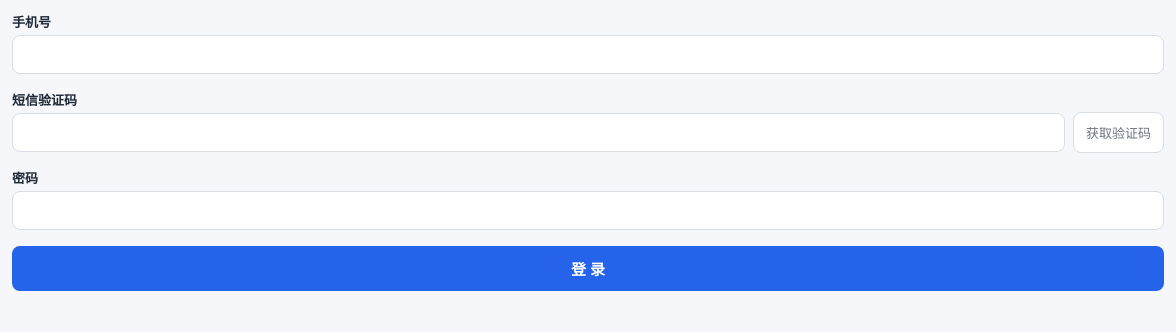
Test: US2 非法输入即时拦截与友好提示 › 错误验证码提交显示"验证码错误"（FR-003）
The width and height of the screenshot is (1176, 332).
Type "13800000001" into the field labelled "手机号" at coordinates (588, 54), box [12, 35, 1164, 74]
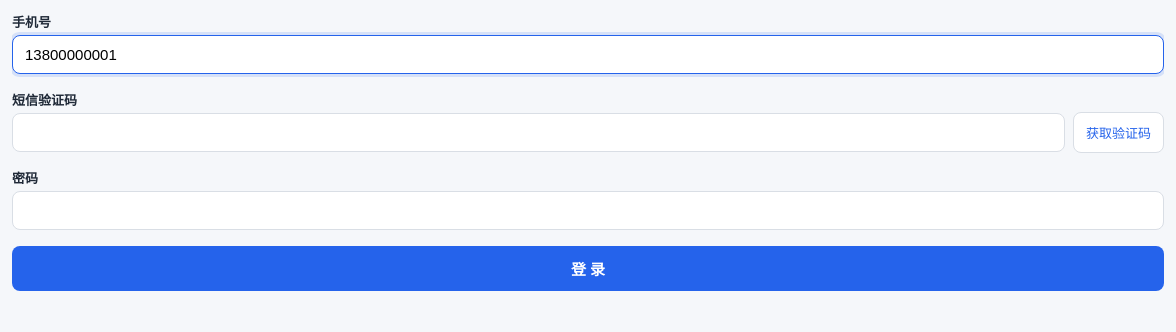
Type "000000" into the field labelled "短信验证码" at coordinates (538, 132), box [12, 113, 1065, 152]
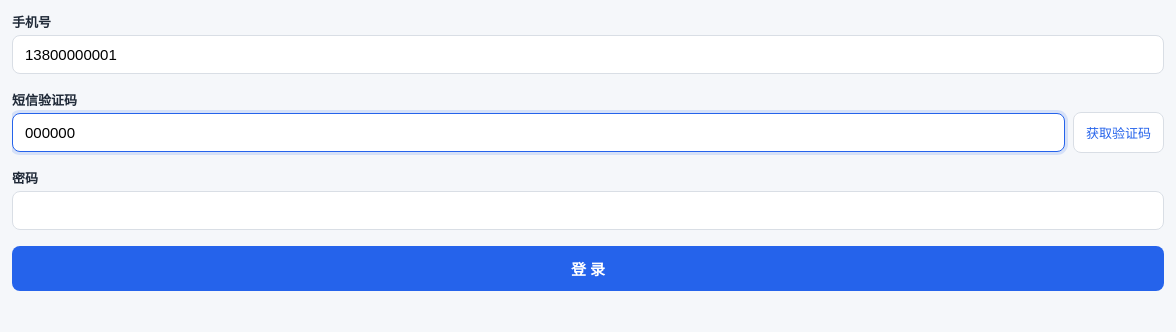
Type "enc:valid-password" into the password field labelled "密码" at coordinates (588, 210), box [12, 191, 1164, 230]
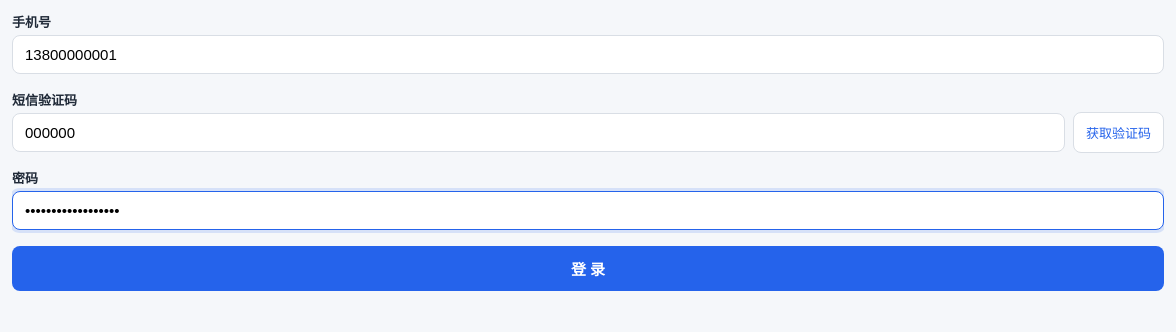
Click the button "登 录" at coordinates (588, 268), box [12, 246, 1164, 291]
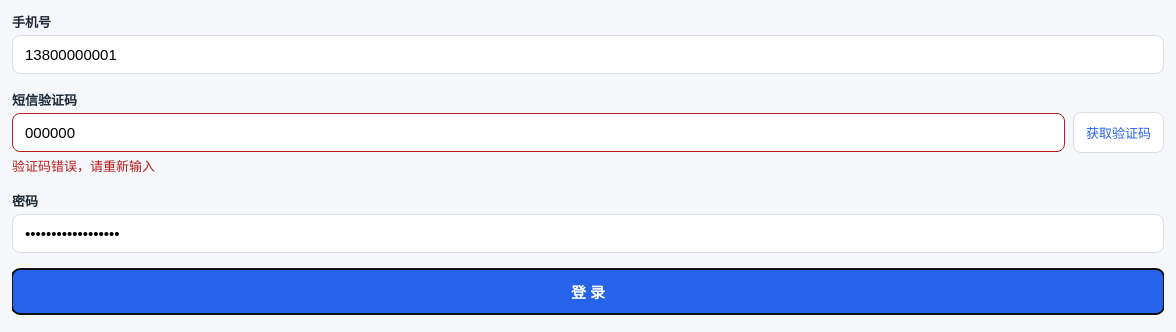
expect the text "验证码错误，请重新输入" is shown: met, box [12, 158, 155, 174]
